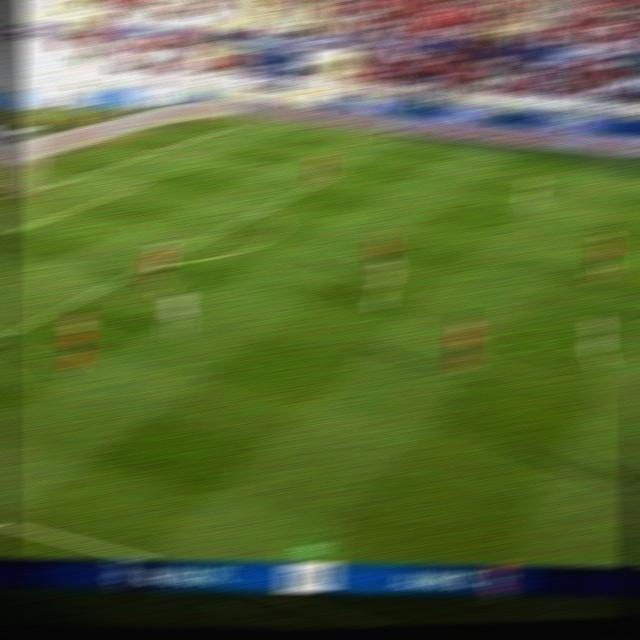bigarea_bottom_inner: (0, 323, 19, 351)
bigarea_top_inner: (320, 164, 345, 182)
bigarea_top_outter: (146, 143, 169, 156)
corner: (219, 118, 247, 129)
smallarea_top_inner: (124, 176, 149, 191)
smallarea_top_outter: (67, 165, 94, 183)
top_arc_area_intersection: (250, 201, 275, 217)
